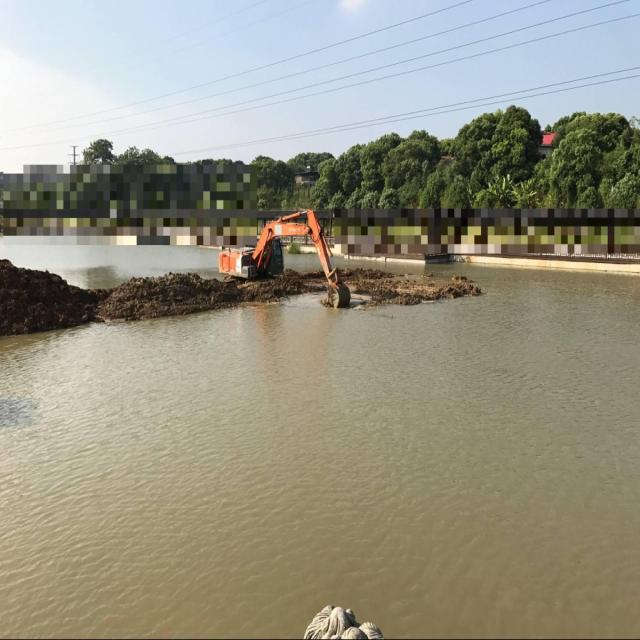excavator: (217, 209, 350, 307)
